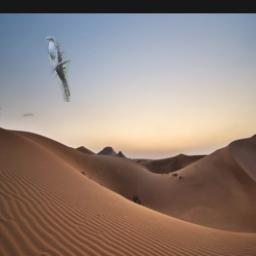Cuckoo: (46, 36, 71, 102)
